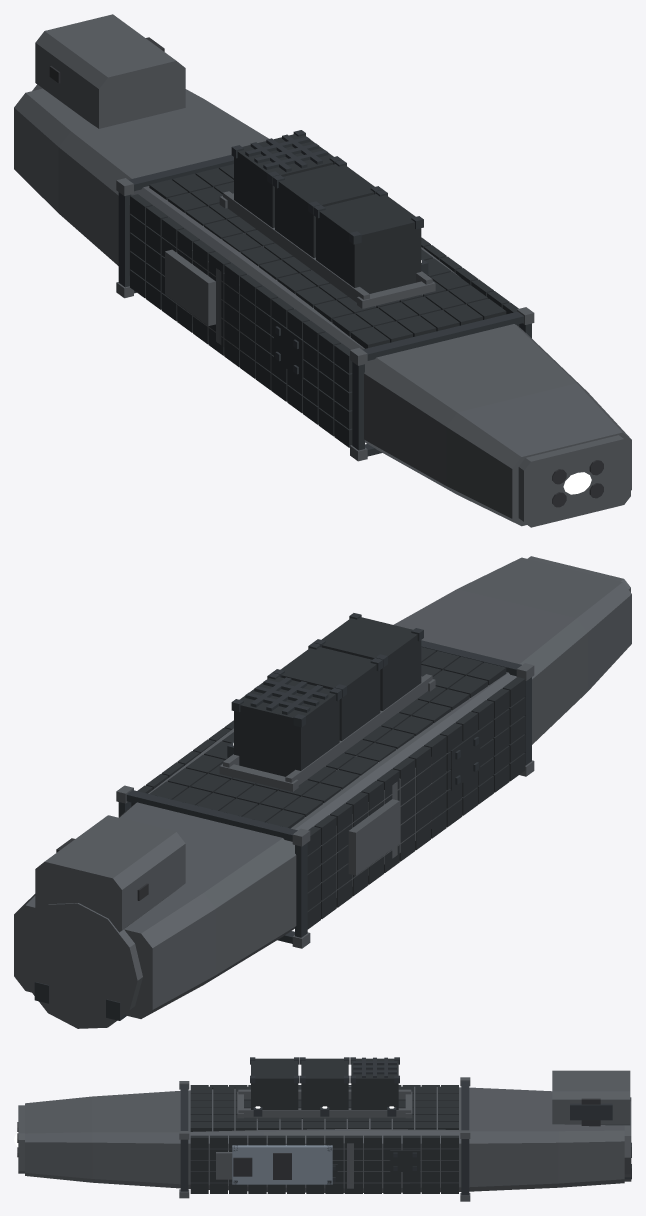
3 renders of one model, top to bottom at view 1: azimuth 30°, elevation 25°; view 2: azimuth 150°, elevation 25°; view 3: azimuth 270°, elevation 25°, orthographic. The views are drawn at different scales.
Visible parts, largest first — view 1: RIMWARD_HULL; view 2: RIMWARD_HULL; view 3: RIMWARD_HULL.
Boxes of the visible parts, x1,y1,x2,y2 form: RIMWARD_HULL: (14, 14, 631, 527); RIMWARD_HULL: (14, 556, 631, 1028); RIMWARD_HULL: (17, 1057, 631, 1201).
Bounding box in the file's own units: 2.46 × 2.2 × 11.09.
